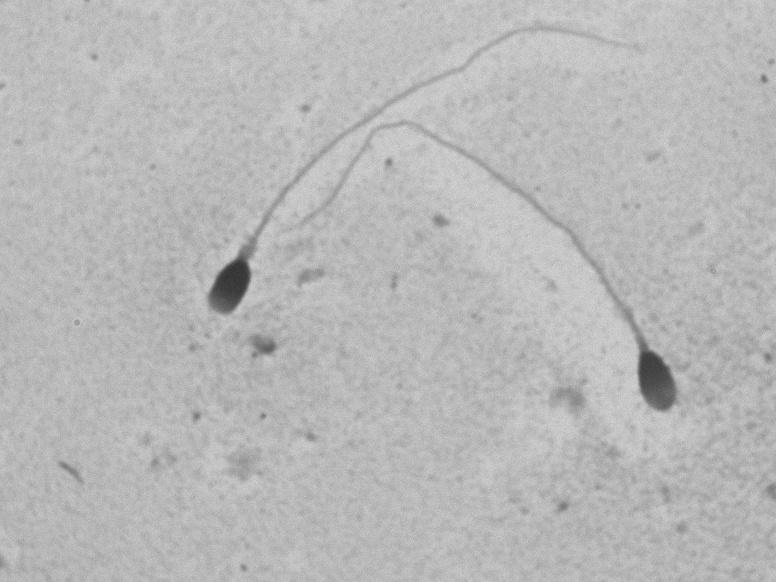Normal: (150, 15, 666, 344), (269, 102, 702, 435)
